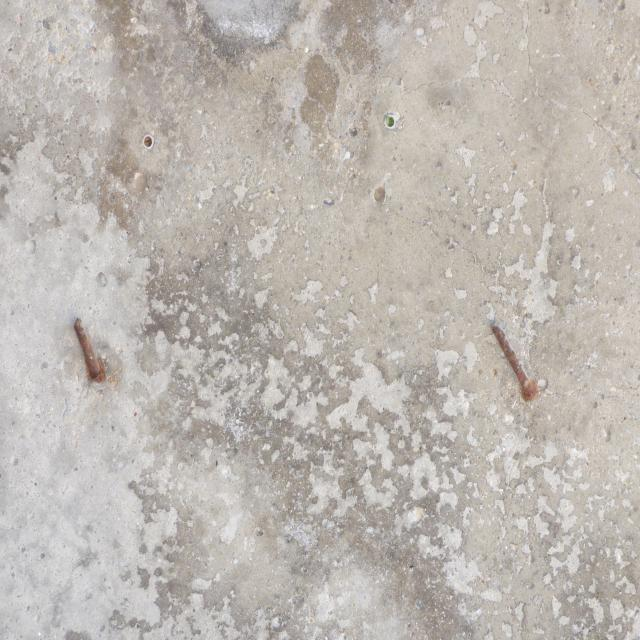corrosion: (483, 306, 545, 406), (63, 304, 118, 401), (143, 132, 158, 156)
